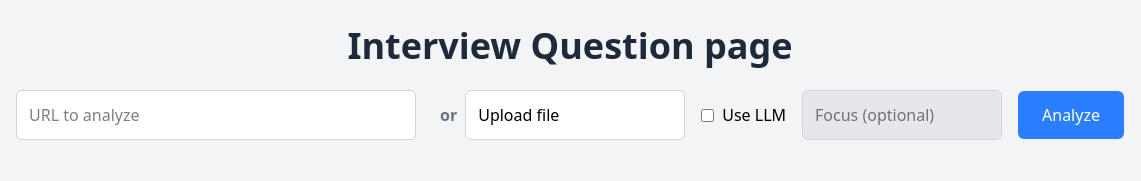
App Component › displays error message on API error
Type "https://github.com/test/repo" into the field with placeholder "URL to analyze".
click(216, 115); type("https://github.com/test/repo")  # box [16, 90, 416, 140]
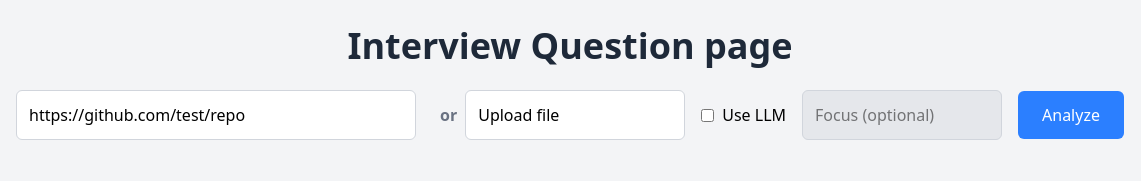
Click the button "Analyze".
click(1071, 115)  # box [1018, 91, 1124, 139]
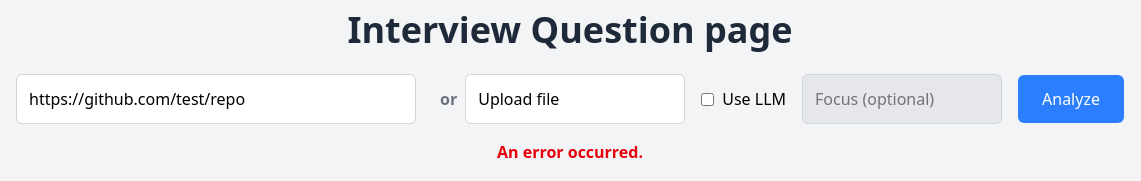
Now the text "An error occurred." is shown, box [497, 140, 643, 164]
